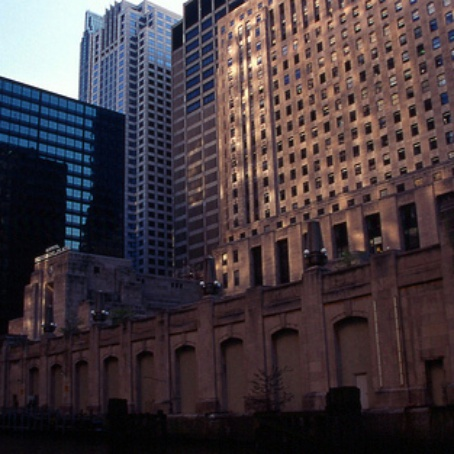building: (217, 1, 454, 290), (15, 265, 454, 408), (81, 4, 179, 283), (1, 93, 124, 293), (172, 1, 229, 301)
